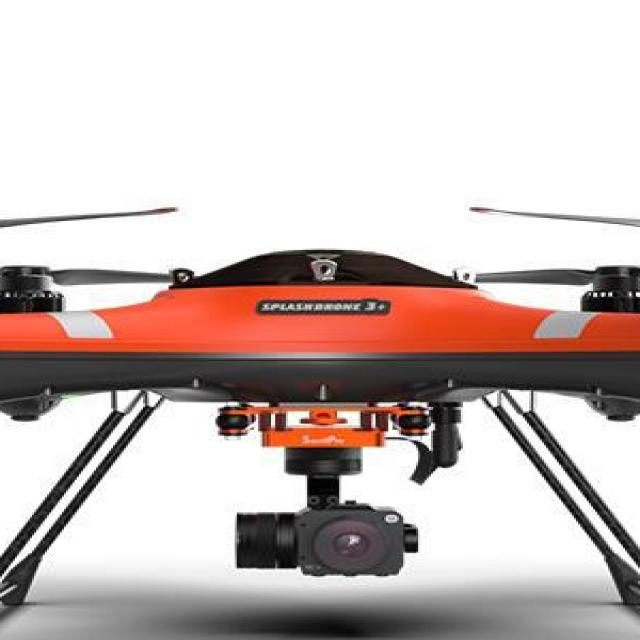drone: (0, 195, 640, 485)
